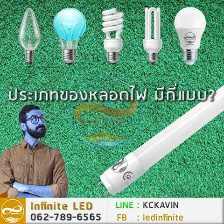light_bulb: (96, 78, 224, 199), (51, 6, 88, 66), (172, 5, 207, 66), (15, 6, 43, 67), (140, 2, 165, 64), (100, 6, 125, 64)
